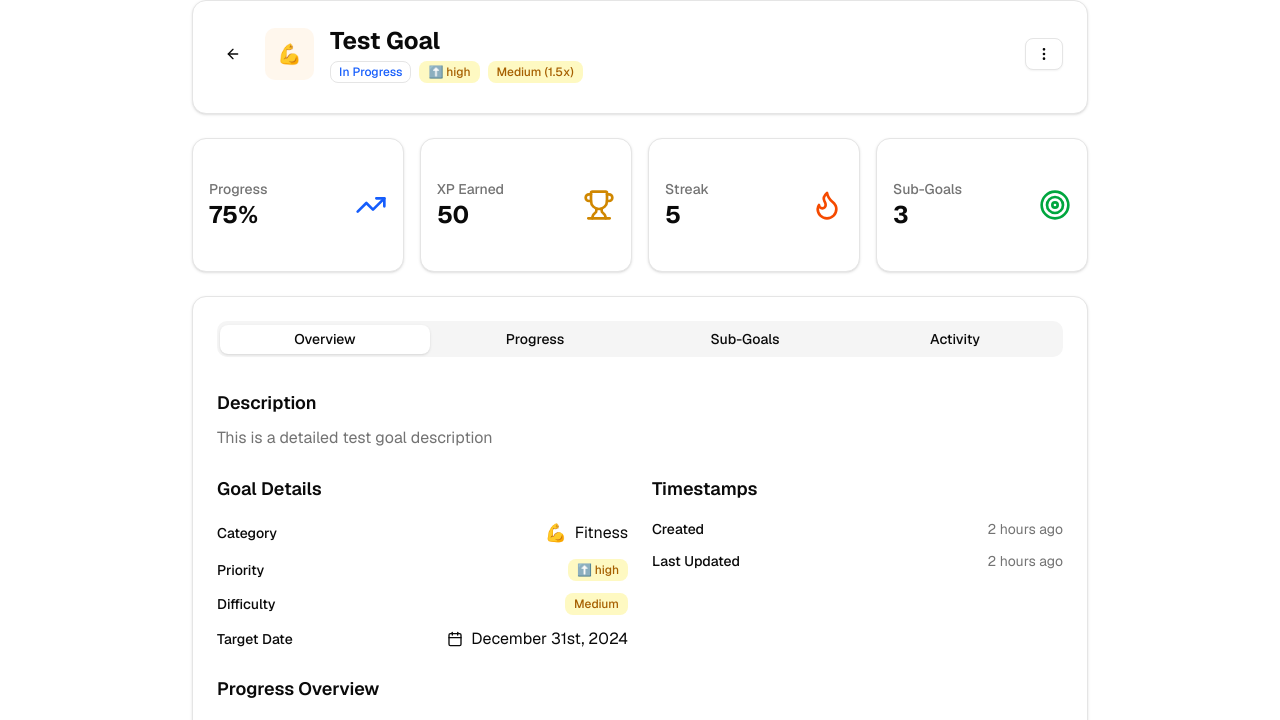
Test: GoalDetail Component › Tabs Navigation › should switch tabs when clicked
The width and height of the screenshot is (1280, 720).
// Click on Progress tab
What coordinates should you click on to do the following:
click the tab "Progress"
I would click on:
 (535, 339)
Its box is [430,324,640,354].
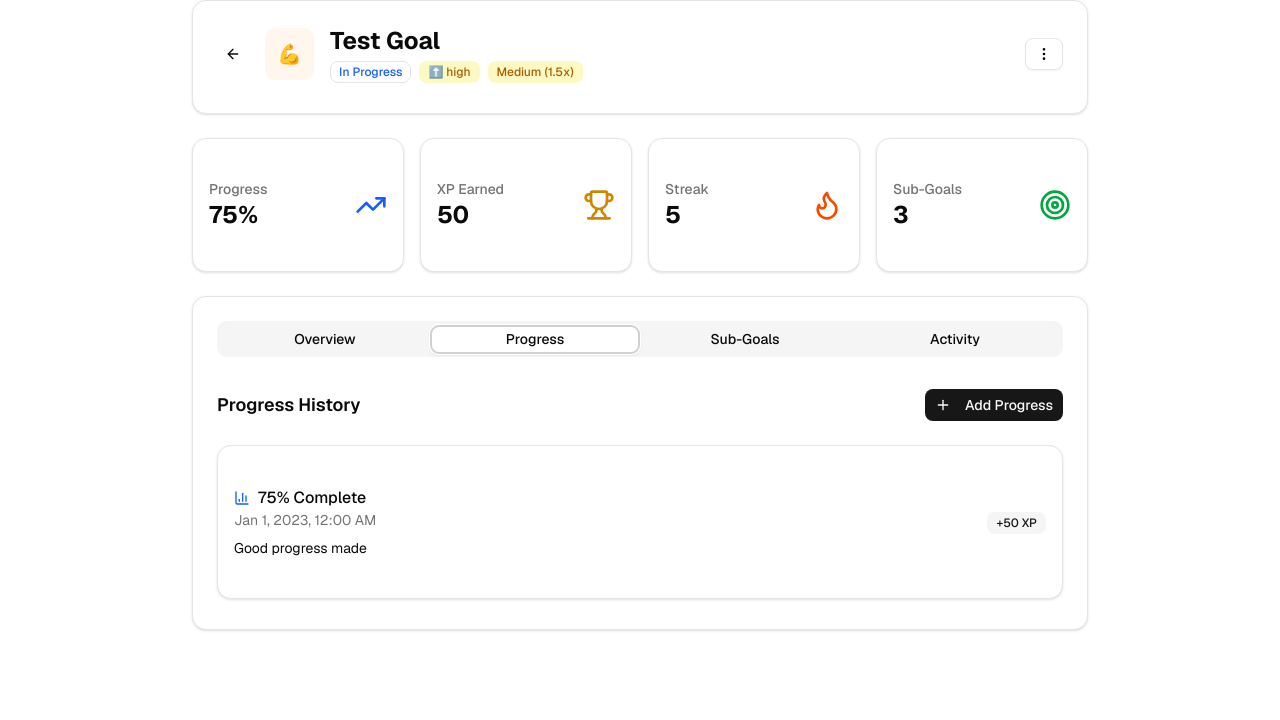
Now the heading "Progress History" is shown, box [217,391,360,419]
Now the button "Add Progress" is shown, box [925,389,1063,421]
